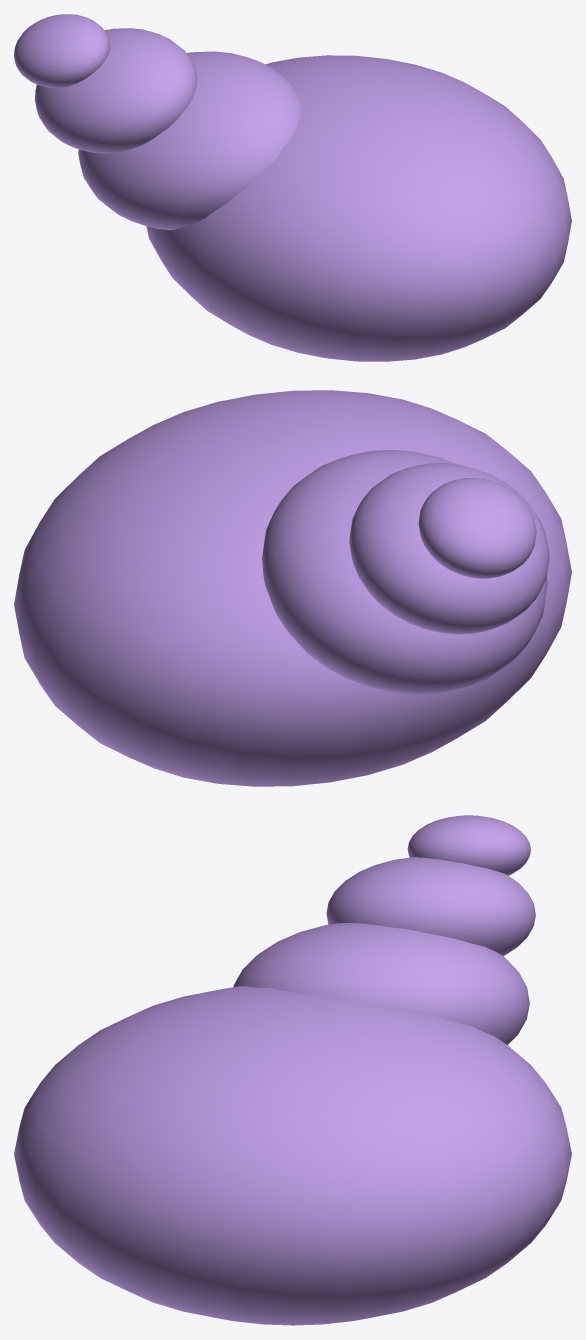
The model's file is shell-phone.fbx.
3 renders of one model, top to bottom at view 1: azimuth 30°, elevation 25°; view 2: azimuth 150°, elevation 25°; view 3: azimuth 270°, elevation 25°, orthographic. The views are drawn at different scales.
Visible parts, largest first — view 1: Sphere; view 2: Sphere; view 3: Sphere.
Part boxes in pixels (box(x1,y1,x2,y2)): Sphere: box(14, 14, 571, 361); Sphere: box(14, 390, 571, 786); Sphere: box(14, 815, 571, 1325).
Size of the model in its own units: 145 by 96.02 by 138.
